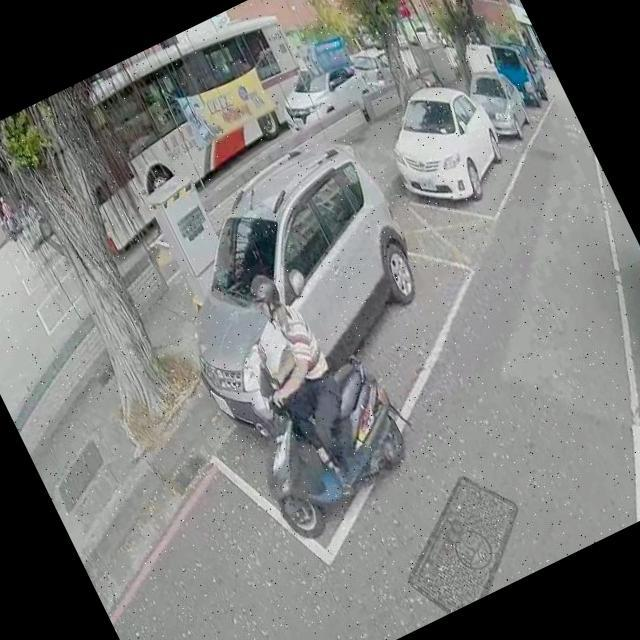person: (216, 260, 386, 510), (0, 189, 22, 237)
